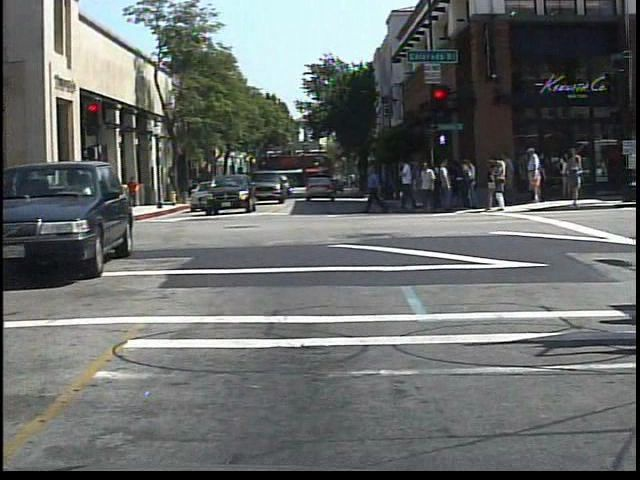person: (523, 146, 548, 206), (34, 172, 58, 232), (2, 175, 24, 229), (124, 173, 145, 211)
